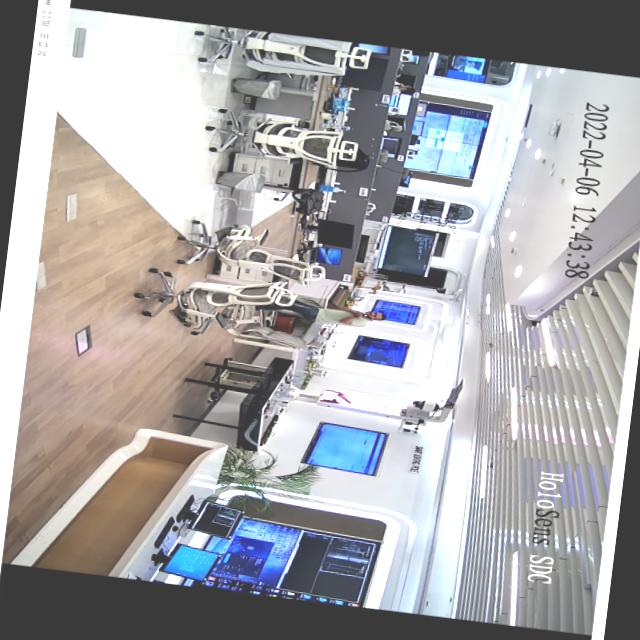long weapon: (346, 308, 375, 324)
